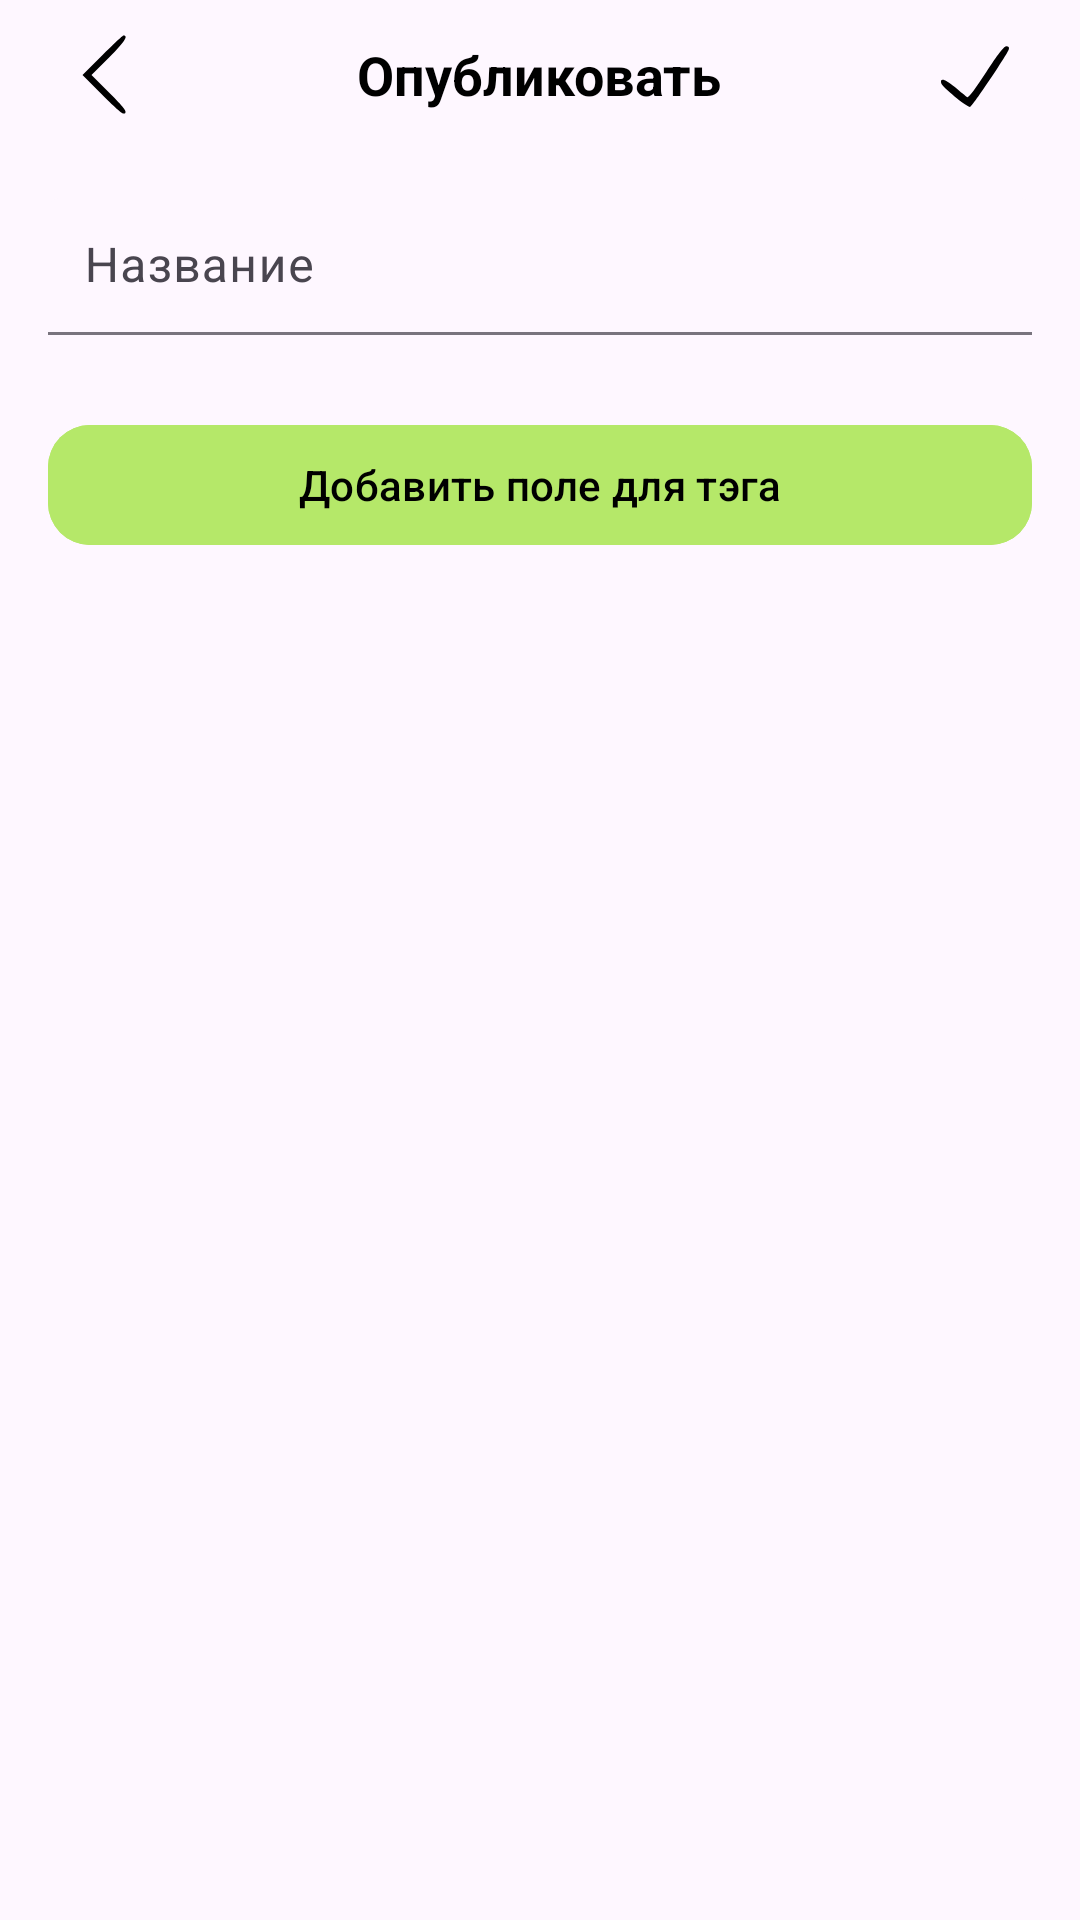

Screen size 1080px x 1920px. Icon name, then its box in pixels as (x1, y1, x2, y2):
Иконка галочки: (941, 46, 1009, 107)
Иконка назад: (82, 35, 126, 114)
